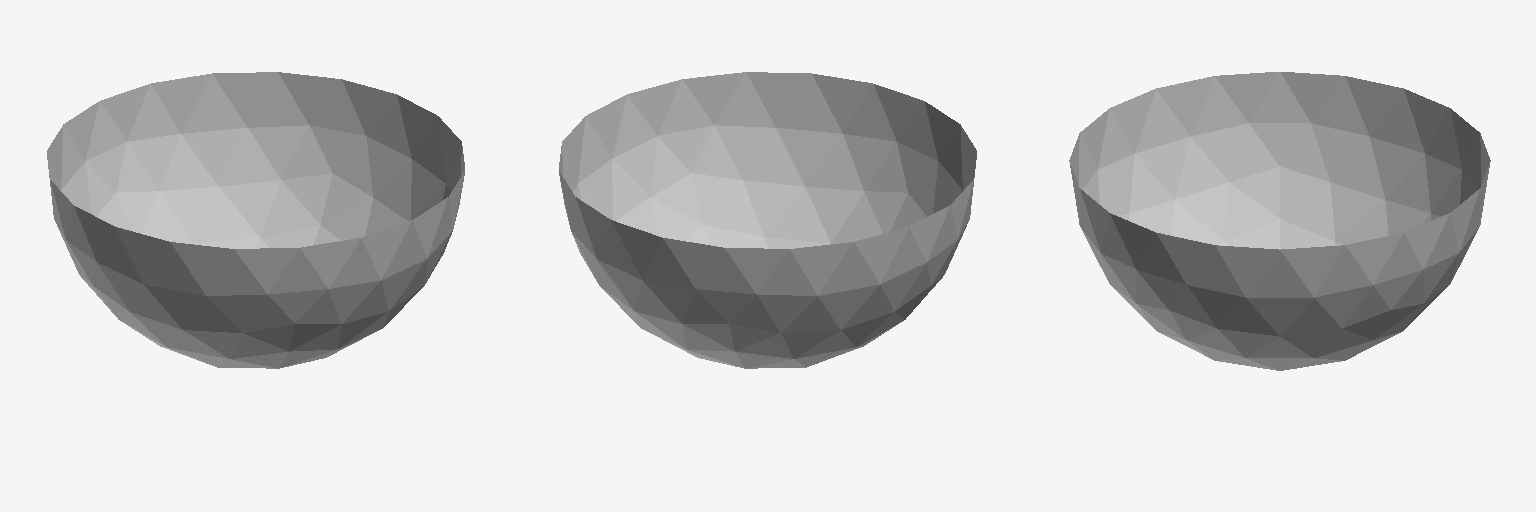
File: lowerHemisphere.obj
3 views of the same model, side by side, from view 1: azimuth 30°, elevation 25°; view 2: azimuth 150°, elevation 25°; view 3: azimuth 270°, elevation 25° (orthographic).
Parts seen in each view (by area): view 1: Icosphere.001; view 2: Icosphere.001; view 3: Icosphere.001.
Part boxes in pixels (x1,y1,x2,y2): Icosphere.001: (47, 72, 464, 368); Icosphere.001: (559, 72, 976, 368); Icosphere.001: (1069, 72, 1490, 370).
Size of the model in its own units: 2 by 1 by 2.